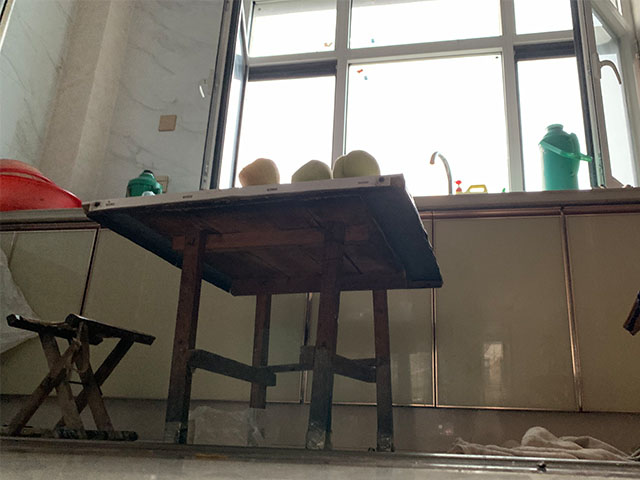cabinet: (439, 184, 640, 458)
stool: (1, 311, 157, 443)
table: (80, 171, 445, 454)
